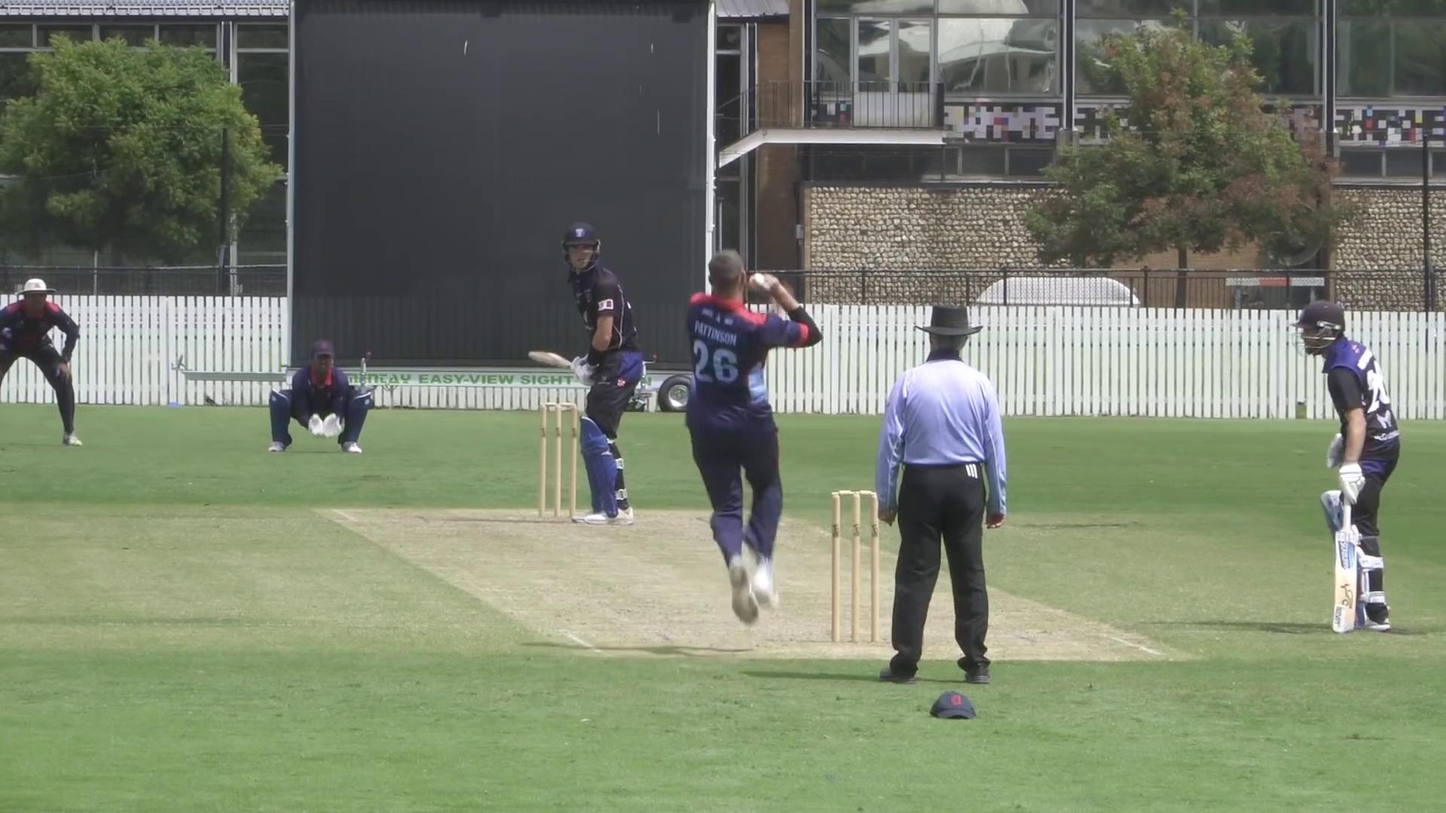ball: (746, 269, 770, 294)
